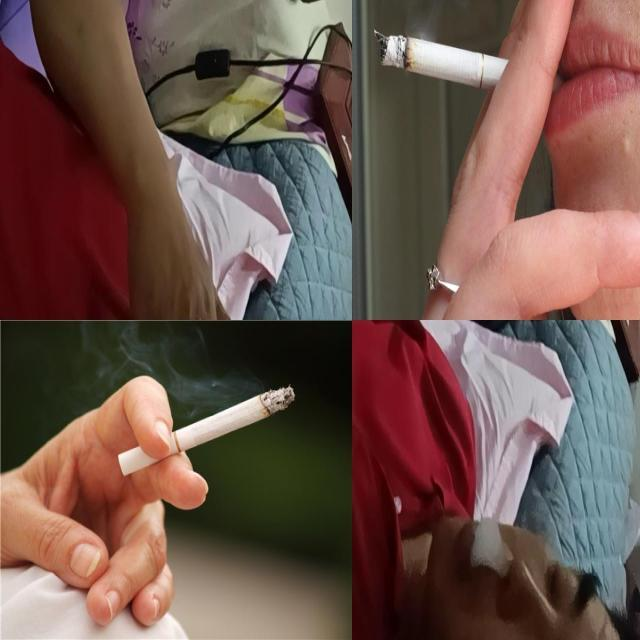smoking: (112, 384, 296, 481), (372, 30, 563, 100)
